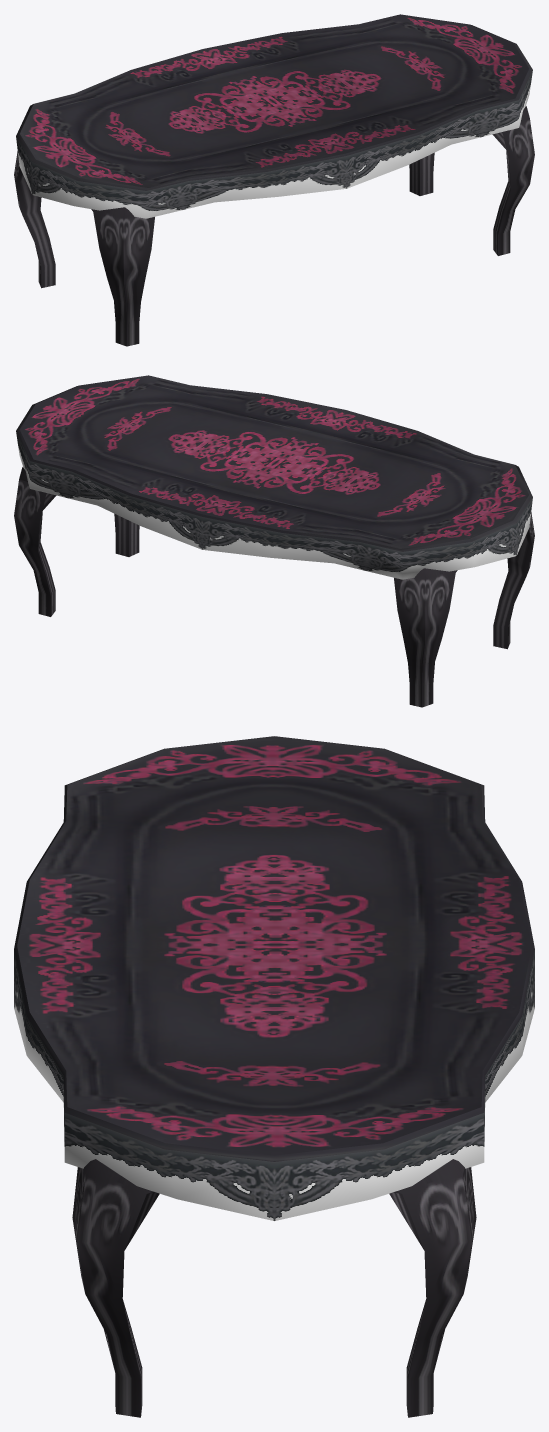
The model's file is LingerieDiningTable_HD.fbx.
The picture shows the model from 3 angles, top to bottom: view 1: azimuth 30°, elevation 25°; view 2: azimuth 150°, elevation 25°; view 3: azimuth 270°, elevation 25°; orthographic projection. The views are drawn at different scales.
Visible parts, largest first — view 1: LingerieDiningTable; view 2: LingerieDiningTable; view 3: LingerieDiningTable.
Boxes of the visible parts, left/top/right/bottom form: LingerieDiningTable: left=14, top=14, right=534, bottom=346; LingerieDiningTable: left=14, top=375, right=534, bottom=707; LingerieDiningTable: left=14, top=736, right=534, bottom=1417.
Bounding box in the file's own units: 1.84 × 0.6024 × 0.9495.
